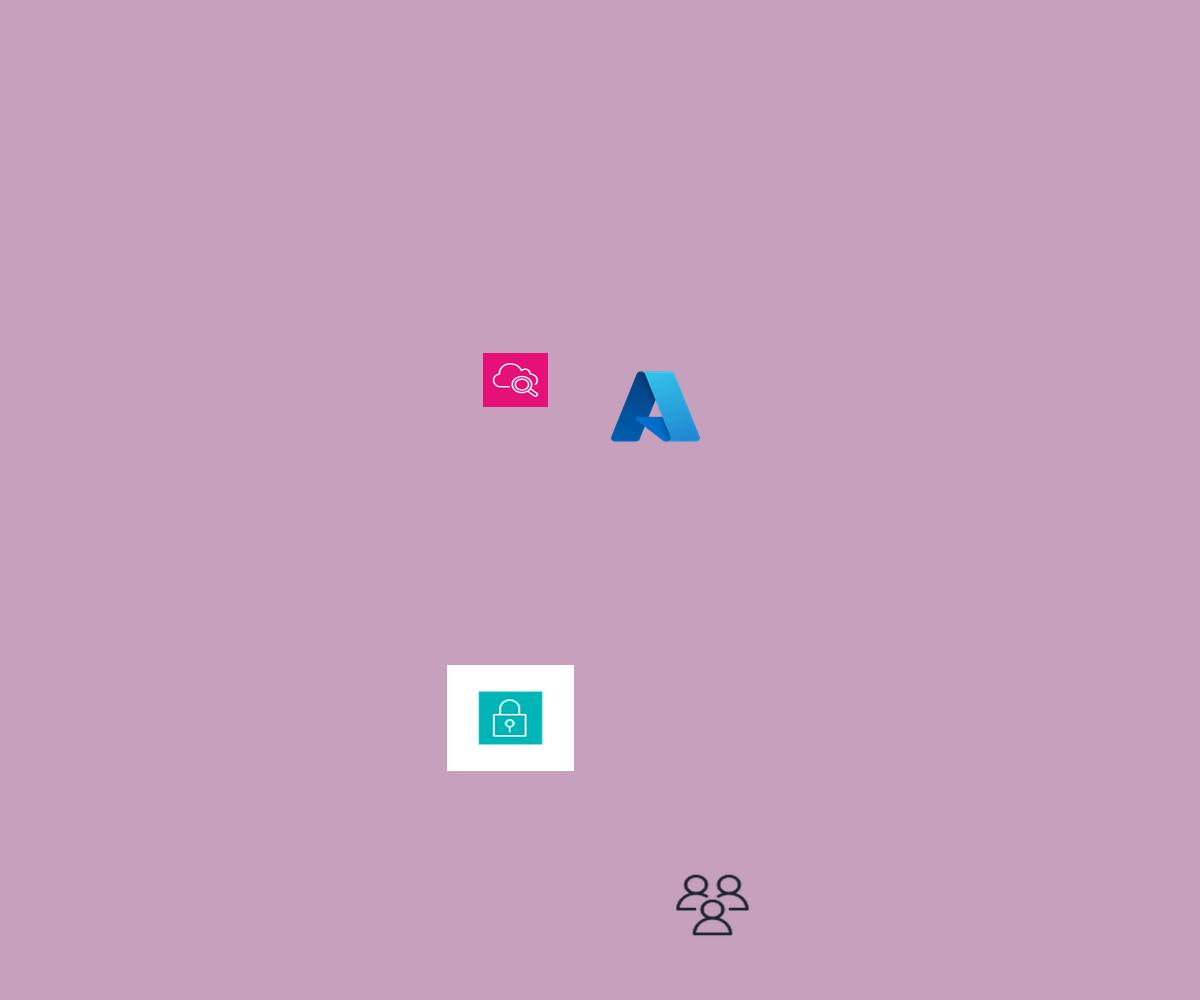AWS-CloudWatch: (483, 353, 548, 407)
AWS-Private-subnet: (447, 665, 574, 771)
AWS-Res_Users: (673, 872, 752, 938)
Azure_services: (607, 366, 704, 447)
